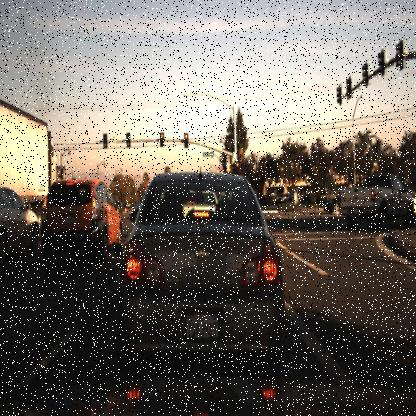car: (120, 173, 281, 371), (41, 176, 122, 264), (340, 174, 412, 230), (0, 184, 41, 263), (324, 187, 342, 216)
trafficLight-GreenLeft: (102, 129, 110, 150), (124, 130, 132, 151)
trafficLight-Red: (159, 129, 167, 148), (182, 132, 190, 151), (234, 160, 241, 178)
truck: (0, 89, 61, 225), (0, 96, 67, 218)
